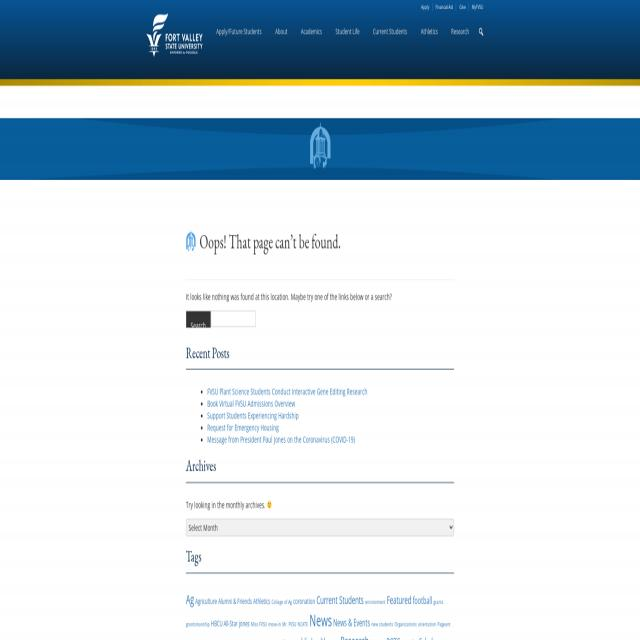button: (146, 12, 203, 56), (210, 18, 270, 46), (367, 18, 415, 44), (329, 18, 367, 46), (294, 18, 330, 46), (445, 18, 477, 46), (415, 18, 445, 46), (269, 18, 295, 46), (186, 311, 210, 328), (477, 21, 489, 46)
field: (186, 519, 454, 536), (210, 311, 256, 327)
